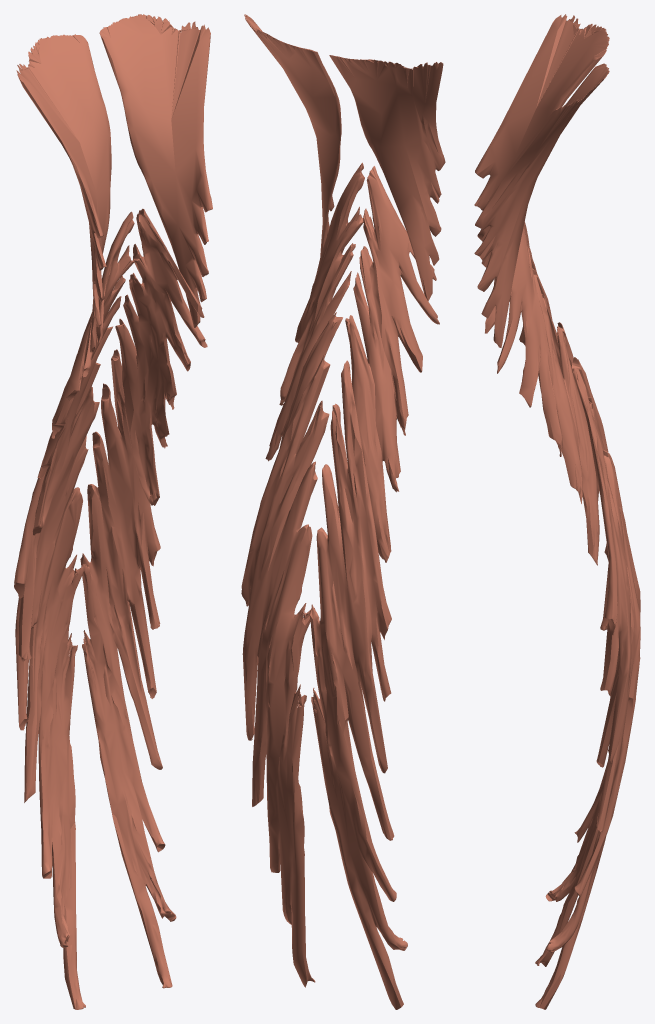
The model's file is semispinalis.glb.
3 views of the same model, side by side, from view 1: azimuth 30°, elevation 25°; view 2: azimuth 150°, elevation 25°; view 3: azimuth 270°, elevation 25° (orthographic). The views are drawn at different scales.
Parts seen in each view (by area): view 1: grp1; view 2: grp1; view 3: grp1.
Boxes of the visible parts, x1,y1,x2,y2 form: grp1: (14,14,212,1009); grp1: (241,14,445,1009); grp1: (474,14,640,1009).
Bounding box in the file's own units: 0.087 × 0.4126 × 0.0666.
